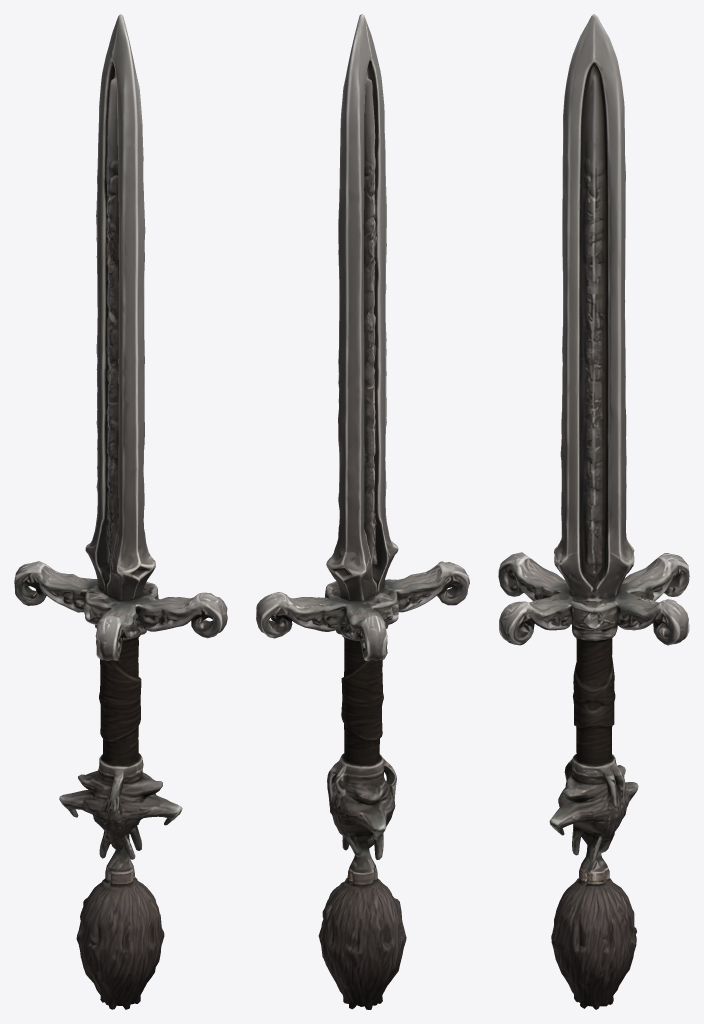
File: look-weapon2-t3-tripo.glb
3 renders of one model, left to right at view 1: azimuth 30°, elevation 25°; view 2: azimuth 150°, elevation 25°; view 3: azimuth 270°, elevation 25°, orthographic.
Visible parts, largest first — view 1: tripo_node_0cde1e05-ffe1-4460-b699-78299542ebc2; view 2: tripo_node_0cde1e05-ffe1-4460-b699-78299542ebc2; view 3: tripo_node_0cde1e05-ffe1-4460-b699-78299542ebc2.
Boxes of the visible parts, x1,y1,x2,y2 form: tripo_node_0cde1e05-ffe1-4460-b699-78299542ebc2: (14, 14, 227, 1009); tripo_node_0cde1e05-ffe1-4460-b699-78299542ebc2: (256, 14, 469, 1009); tripo_node_0cde1e05-ffe1-4460-b699-78299542ebc2: (498, 14, 689, 1009).
Size of the model in its own units: 0.1383 by 1 by 0.1751.
1 material, 1 textured.
